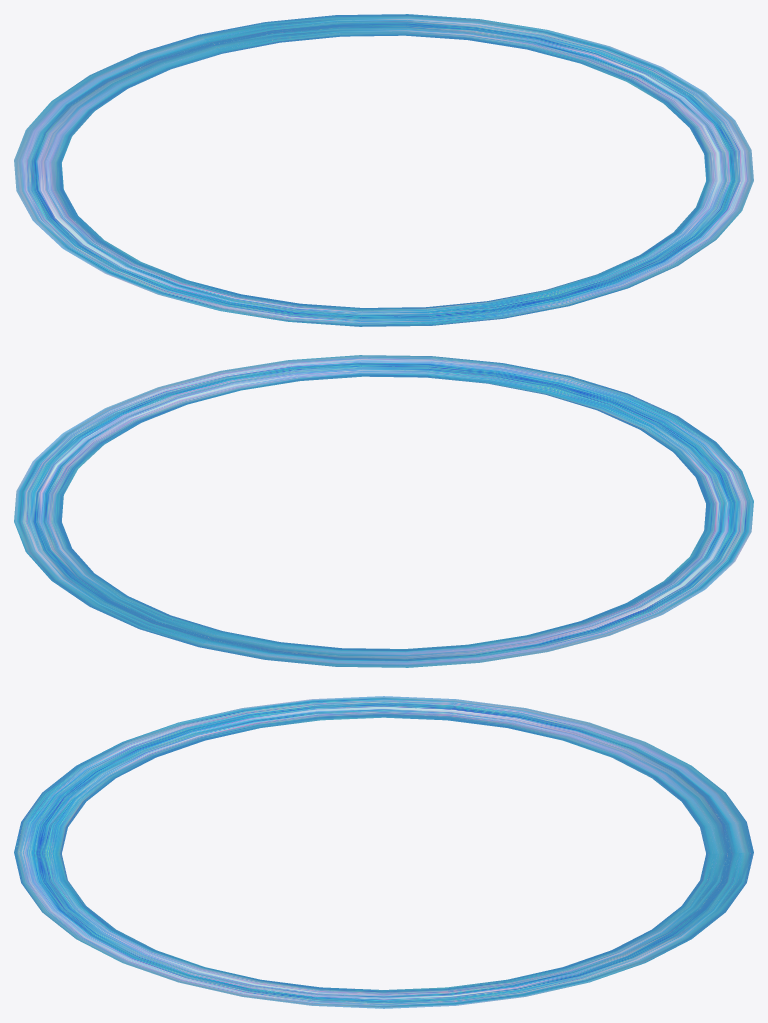
Rendered from VFX_WaterDiscCenterUVCameraBorder.fbx.
3 renders of one model, top to bottom at view 1: azimuth 30°, elevation 25°; view 2: azimuth 150°, elevation 25°; view 3: azimuth 270°, elevation 25°, orthographic.
Visible parts, largest first — view 1: waterfall_center2; view 2: waterfall_center2; view 3: waterfall_center2.
Boxes of the visible parts, bbox=[...] form: waterfall_center2: bbox=[14, 14, 753, 326]; waterfall_center2: bbox=[14, 355, 753, 667]; waterfall_center2: bbox=[14, 696, 753, 1008].
Size of the model in its own units: 946 by 1.96 by 946.
